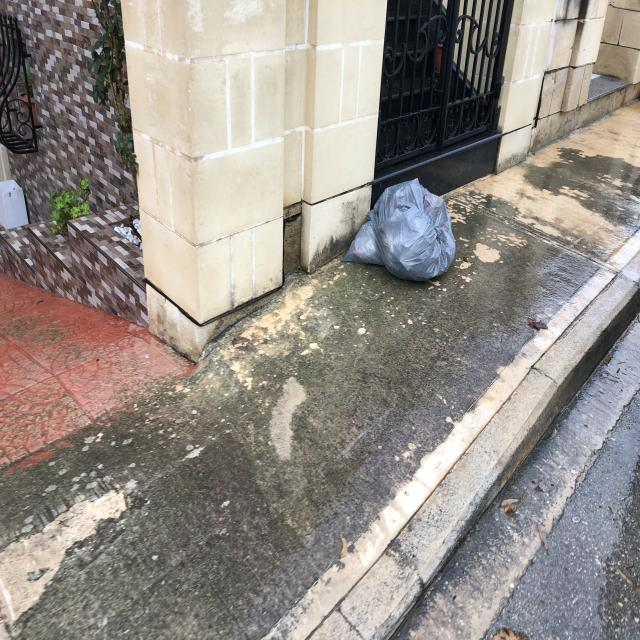Recycled Waste -Grey or Green Bag-: (345, 180, 458, 283)
